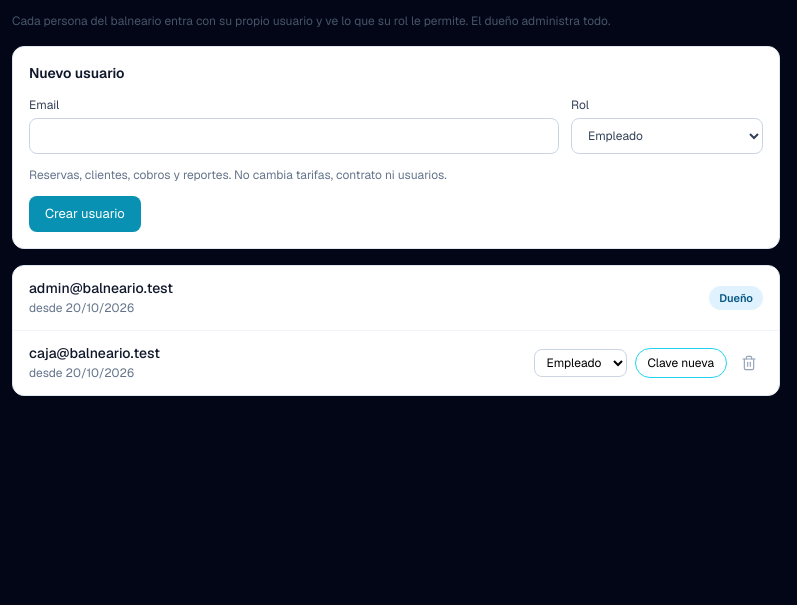
Test: Panel de usuario > Usuarios › crea un usuario de pileta y muestra la clave una vez
Expected: the list named "Usuarios del balneario" is shown, [12, 264, 780, 396]
Step 1. Type "pileta@balneario.test" into the field labelled "Email" → {"x": 294, "y": 136}, box [29, 118, 559, 154]
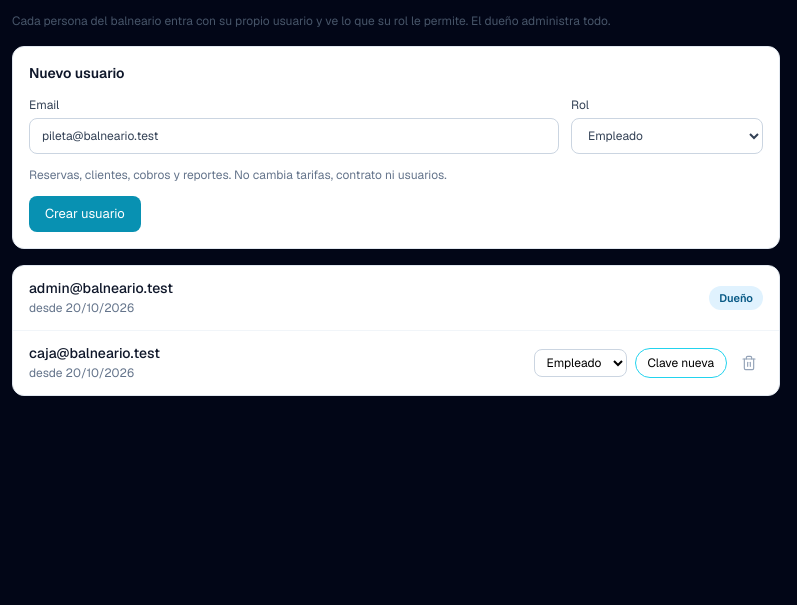
Step 2. Select "Pileta" in the dropdown labelled "Rol" → {"x": 667, "y": 136}, box [571, 118, 763, 154]
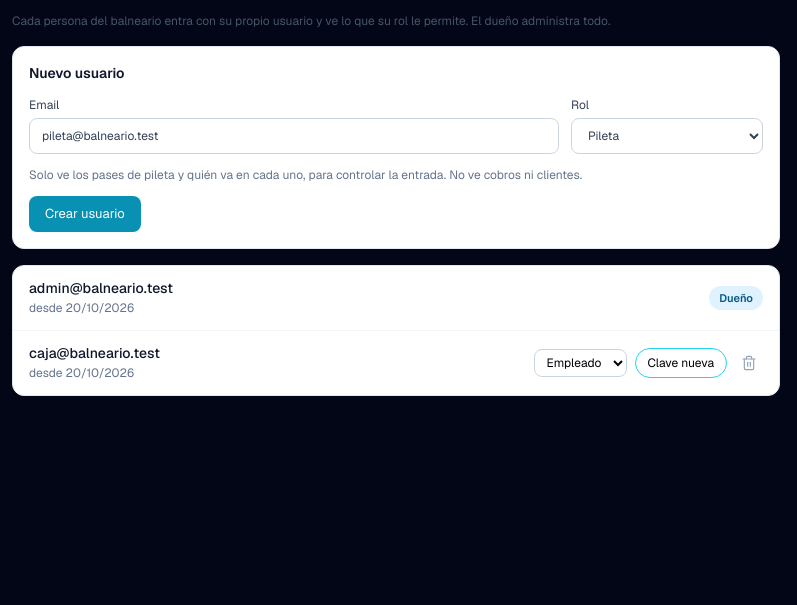
Result: the text "Solo ve los pases de pileta" is shown at [29, 167, 582, 183]
Step 3. Click the button "Crear usuario" → {"x": 85, "y": 214}, box [29, 196, 141, 232]
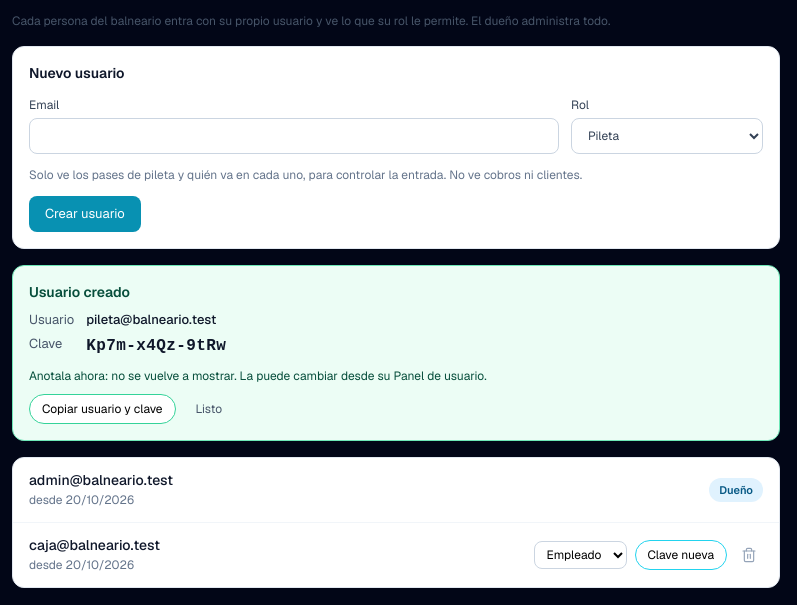
Result: the text "Kp7m-x4Qz-9tRw" is shown at [86, 336, 226, 354]
